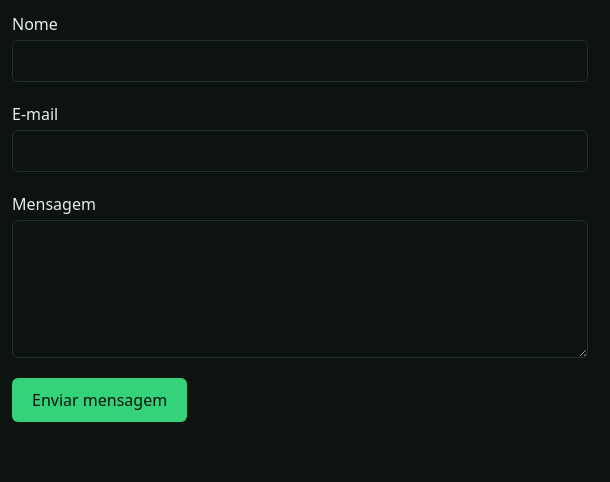
ContactForm › envia dados válidos (com honeypot vazio) e anuncia sucesso
Type "Ana" into the field labelled "Nome" at (300, 61), box top-left (12, 40), bottom-right (588, 82)
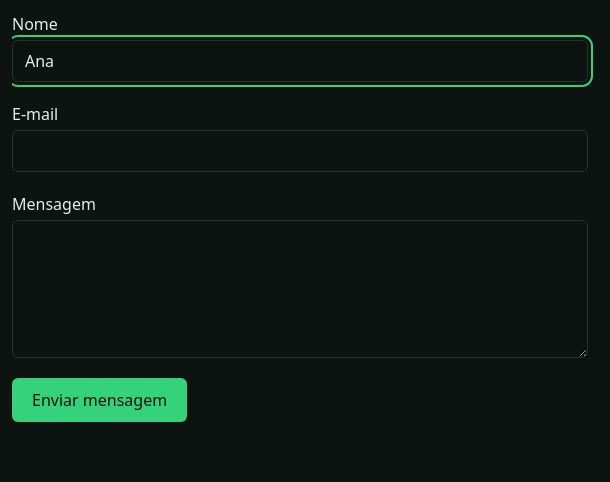
Type "ana@exemplo.com" into the field labelled "E-mail" at (300, 151), box top-left (12, 130), bottom-right (588, 172)
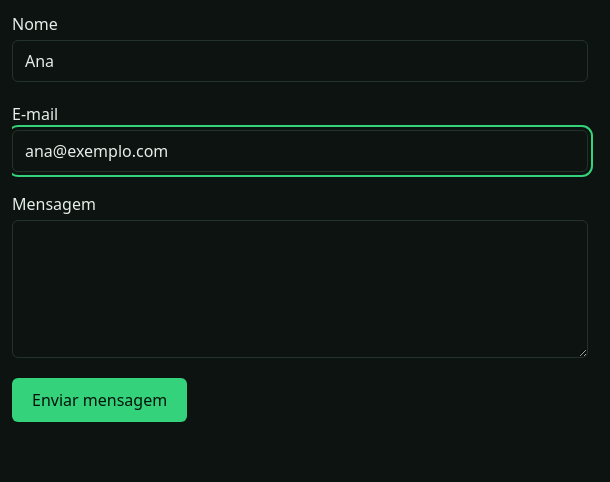
Type "Olá, vi seu portfólio." into the text box labelled "Mensagem" at (300, 289), box top-left (12, 220), bottom-right (588, 358)
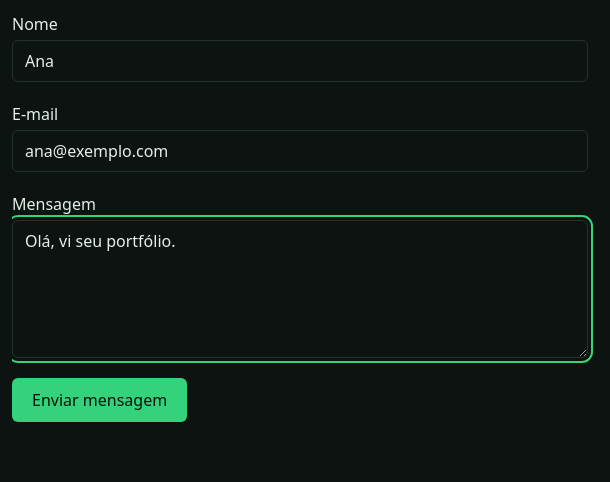
Click the button "Enviar mensagem" at (100, 400), box top-left (12, 378), bottom-right (187, 422)
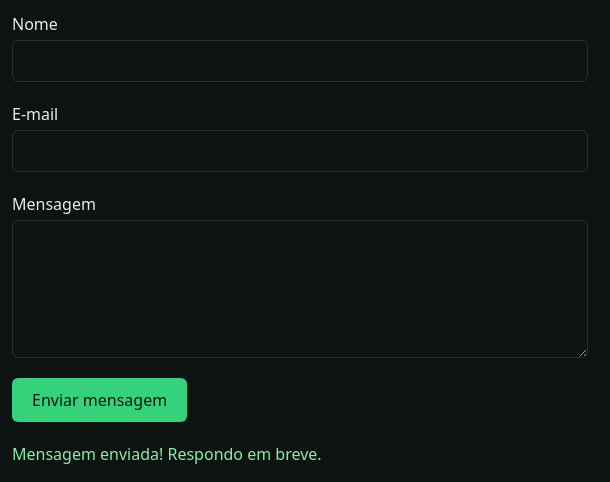
Expected: the message reads "Mensagem enviada! Respondo em breve.", top-left (12, 443), bottom-right (322, 465)
Expected: the field labelled "Nome" is empty, top-left (12, 40), bottom-right (588, 82)
